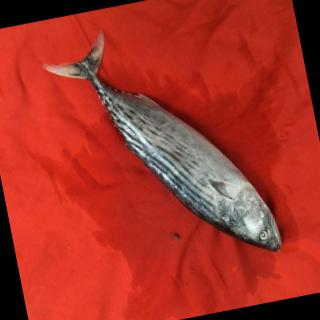Ikan: (47, 14, 294, 298)
